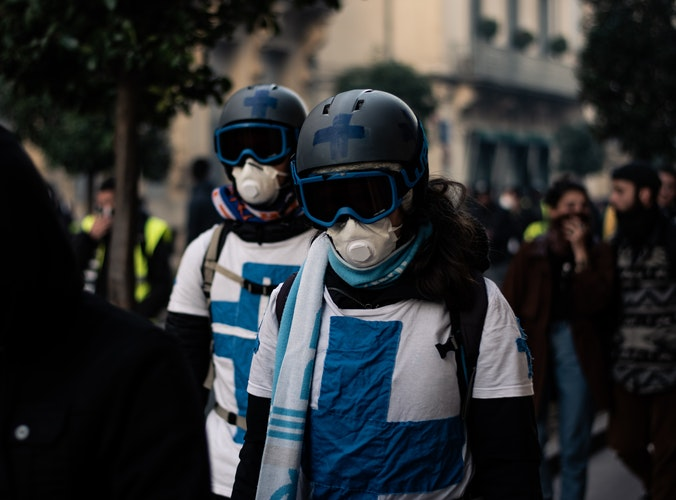helmet: (288, 79, 431, 212), (208, 77, 308, 155)
